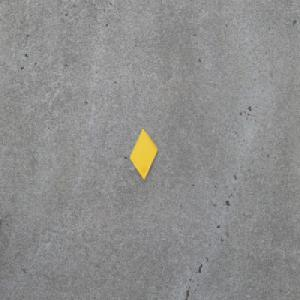PlasticPart: (129, 127, 158, 180)
